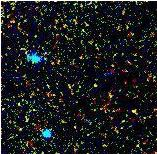star: (121, 101, 151, 131)
